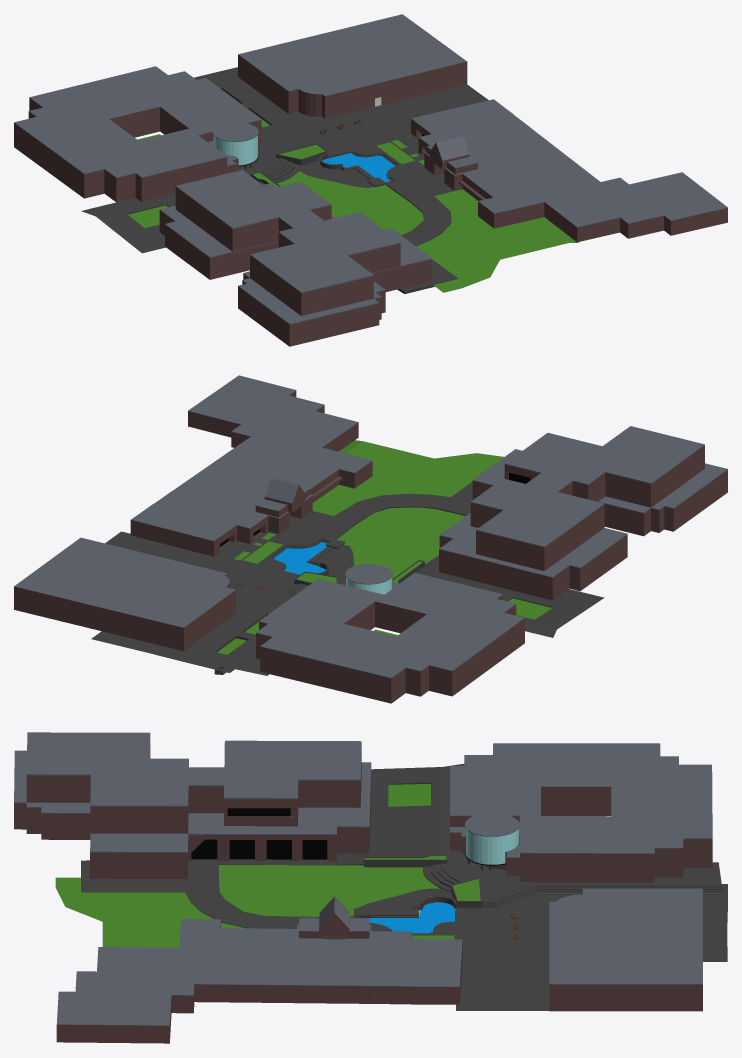
File: UBCOCourtyard.fbx
The picture shows the model from 3 angles, top to bottom: view 1: azimuth 30°, elevation 25°; view 2: azimuth 150°, elevation 25°; view 3: azimuth 270°, elevation 25°; orthographic projection. The views are drawn at different scales.
Parts seen in each view (by area): view 1: CourtyardSpace, ART, SCI, Admin, Library; view 2: CourtyardSpace, ART, SCI, Admin, Library; view 3: CourtyardSpace, ART, SCI, Admin, Library.
Boxes of the visible parts, x1=… form: CourtyardSpace: x1=81, y1=67, x2=578, y2=293; ART: x1=159, y1=170, x2=431, y2=346; SCI: x1=14, y1=66, x2=261, y2=202; Admin: x1=411, y1=99, x2=727, y2=242; Library: x1=238, y1=14, x2=467, y2=118; CourtyardSpace: x1=91, y1=440, x2=604, y2=675; ART: x1=439, y1=426, x2=727, y2=600; SCI: x1=256, y1=564, x2=524, y2=703; Admin: x1=130, y1=375, x2=372, y2=556; Library: x1=14, y1=537, x2=235, y2=651; CourtyardSpace: x1=55, y1=763, x2=727, y2=1010; ART: x1=14, y1=732, x2=371, y2=878; SCI: x1=450, y1=743, x2=712, y2=882; Admin: x1=56, y1=896, x2=462, y2=1043; Library: x1=549, y1=888, x2=702, y2=1011.
Bounding box in the file's own units: 16458 × 1719 × 17912.
Materials: 10 (3 with a texture image).
